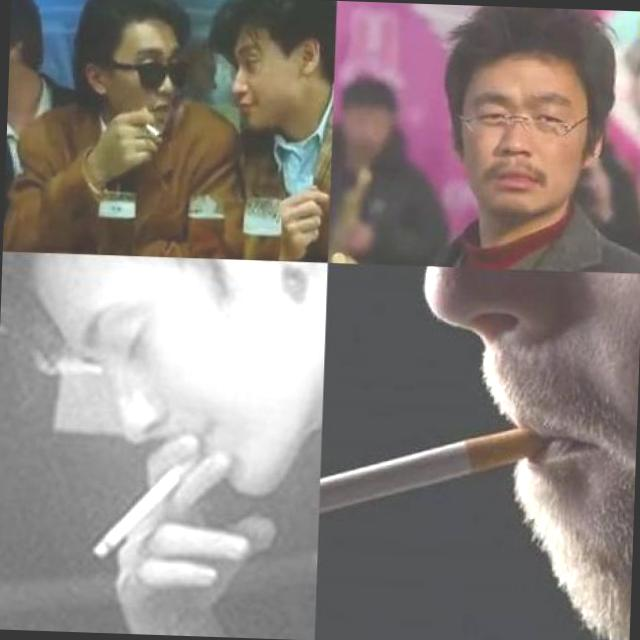smoke: (318, 417, 542, 548), (84, 438, 218, 566), (142, 121, 163, 140)
